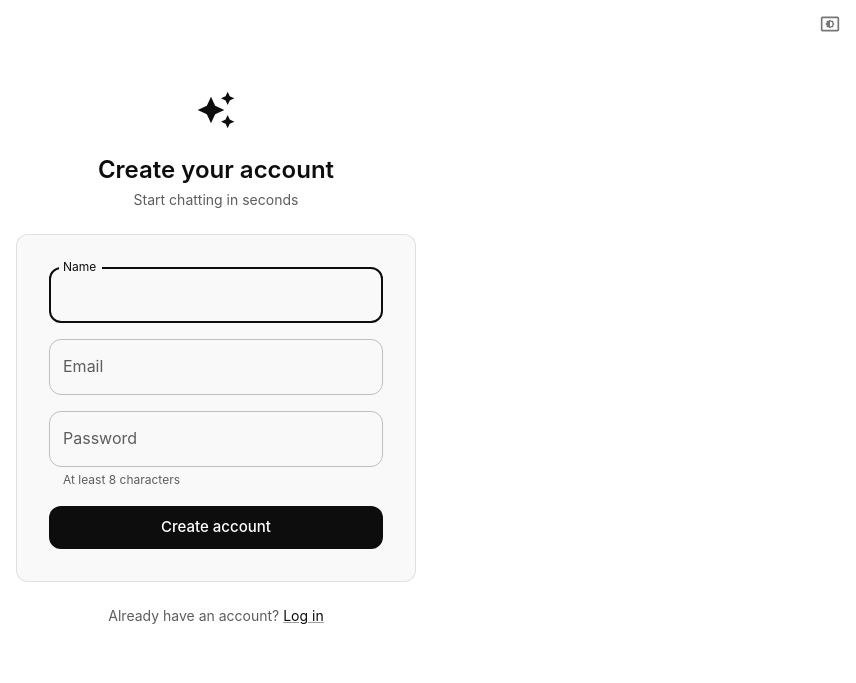
Test case: auth flow › shows field errors from the server on register
Type "Alice" into the field labelled "Name" at (216, 295), box x1=49 y1=267 x2=383 y2=323
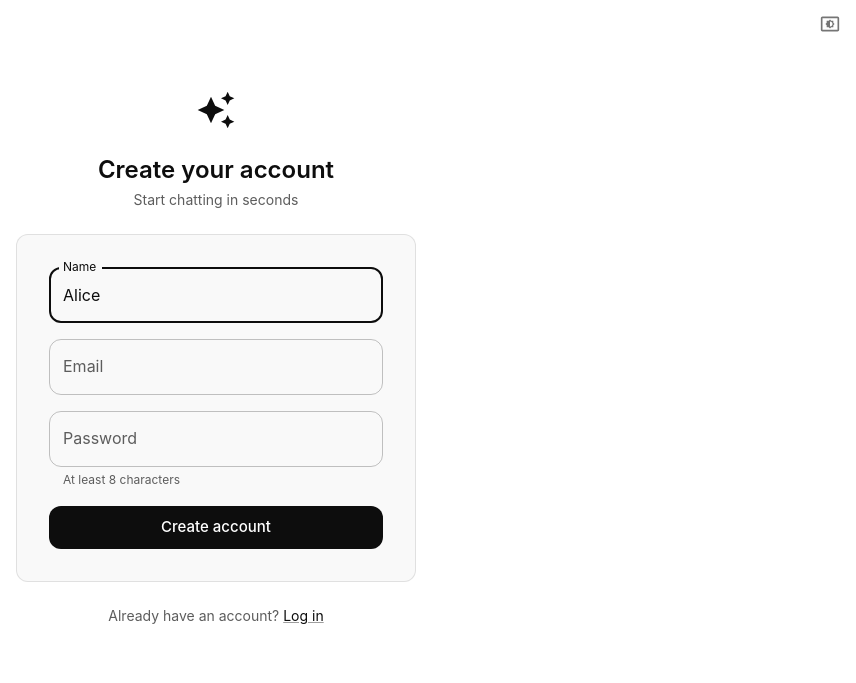
Type "alice@example.com" into the field labelled "Email" at (216, 367), box x1=49 y1=339 x2=383 y2=395
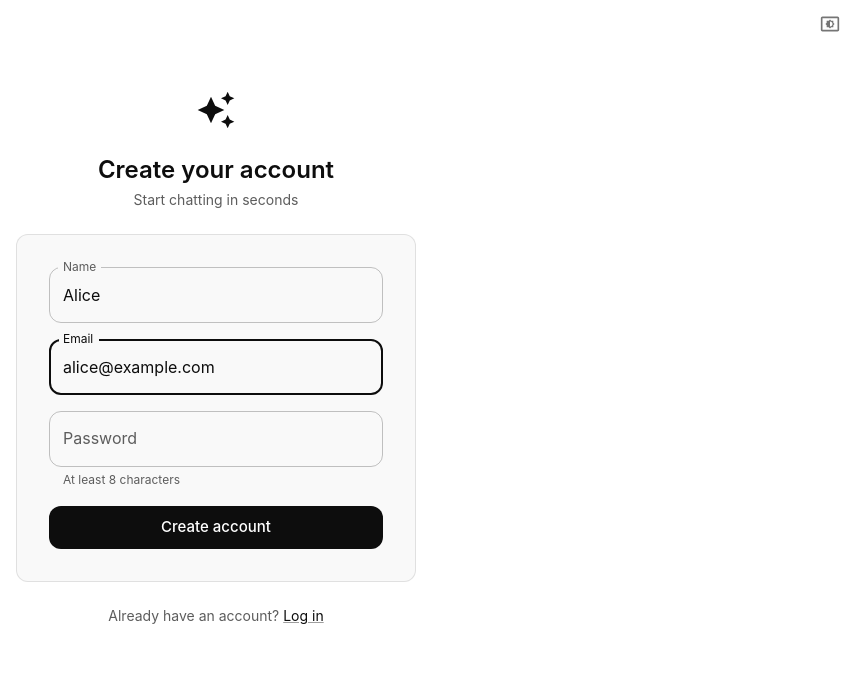
Type "short" into the password field labelled "Password" at (216, 439), box x1=49 y1=411 x2=383 y2=467
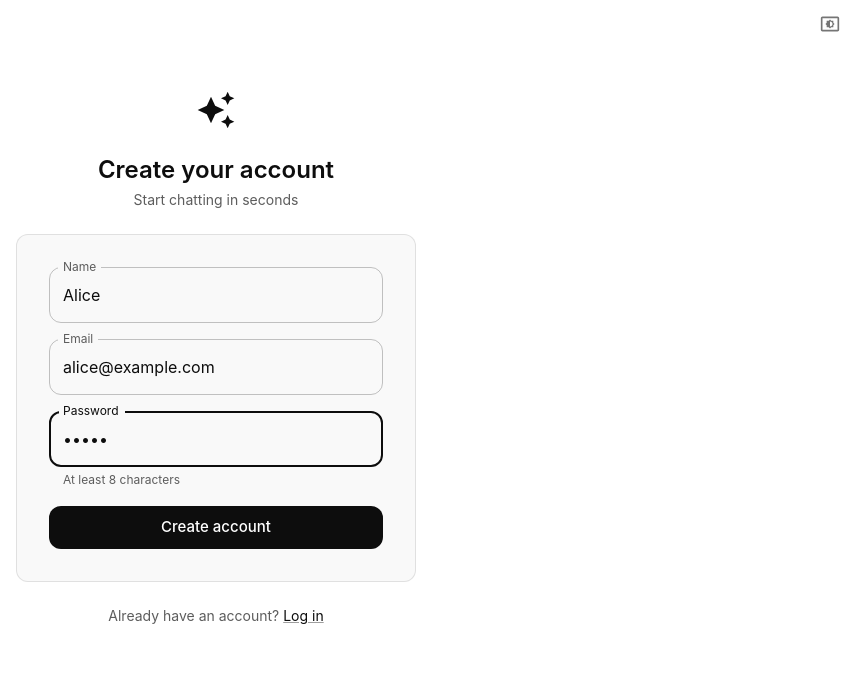
Click the button "Create account" at (216, 527), box x1=49 y1=506 x2=383 y2=549
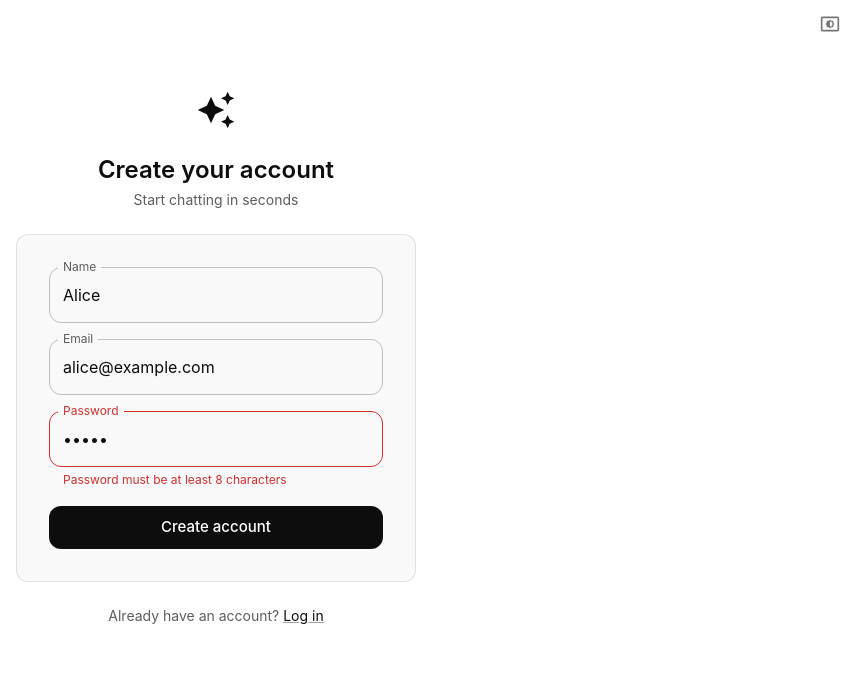
Expected: the text "Password must be at least 8 characters" is shown, x1=63 y1=472 x2=287 y2=487
Type "correct-horse-battery" into the password field labelled "Password" at (216, 439), box x1=49 y1=411 x2=383 y2=467
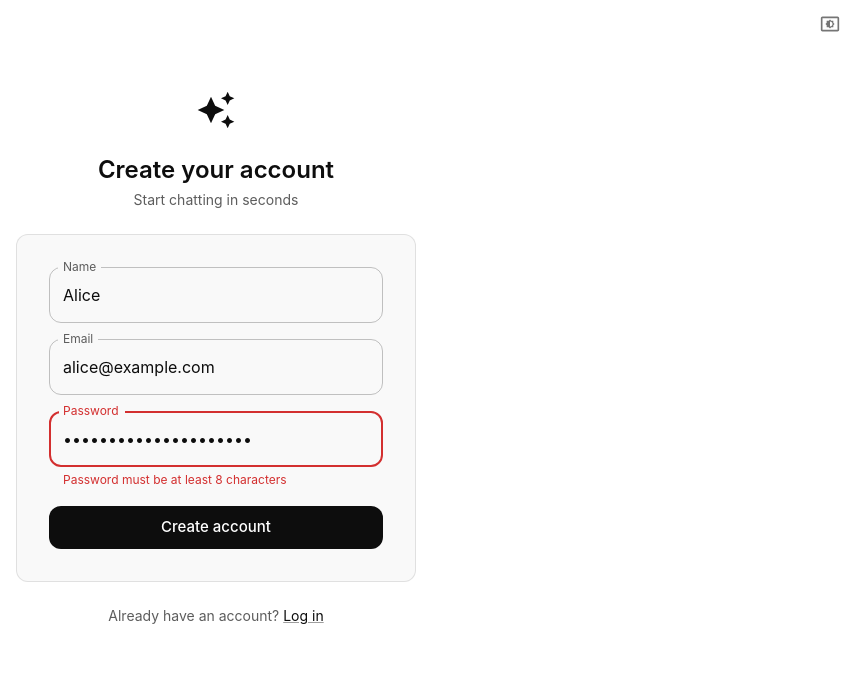
Click the button "Create account" at (216, 527), box x1=49 y1=506 x2=383 y2=549
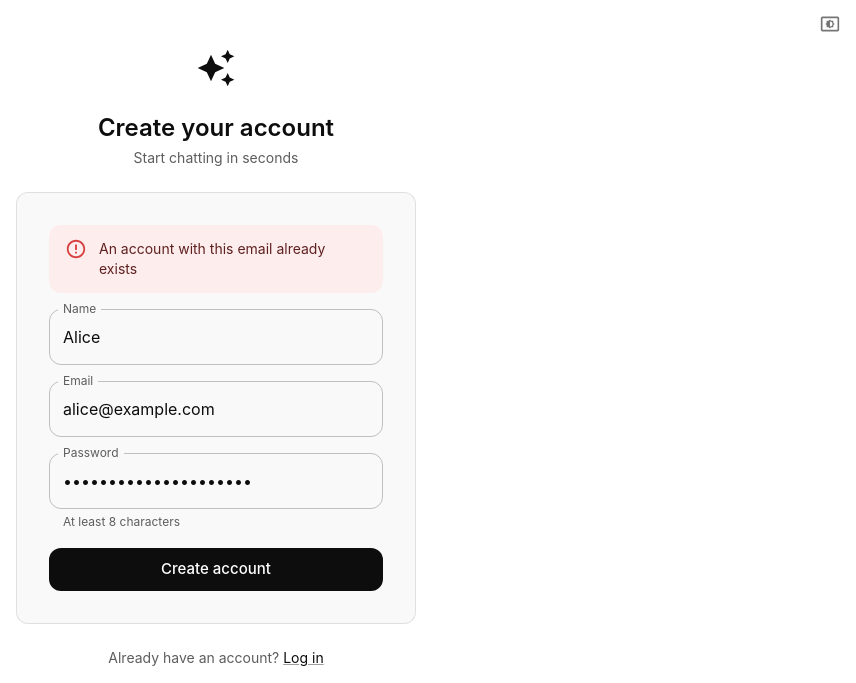
Expected: the message shows "already exists", x1=99 y1=240 x2=325 y2=277
